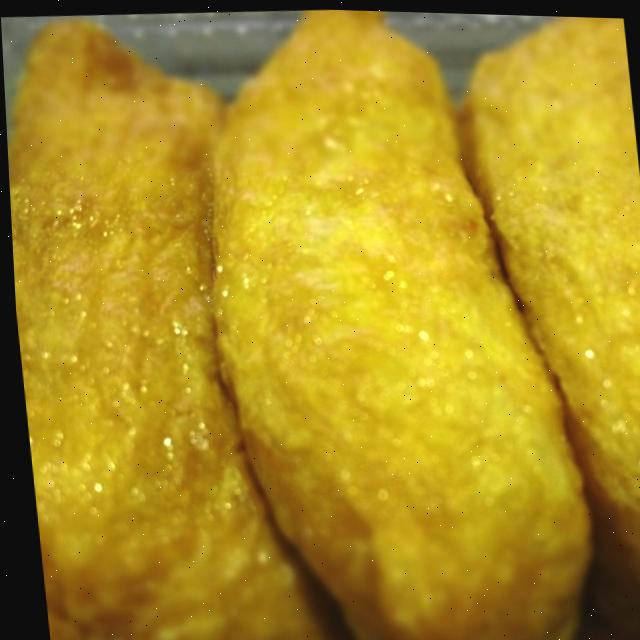寿司卷物: (0, 4, 640, 640)
